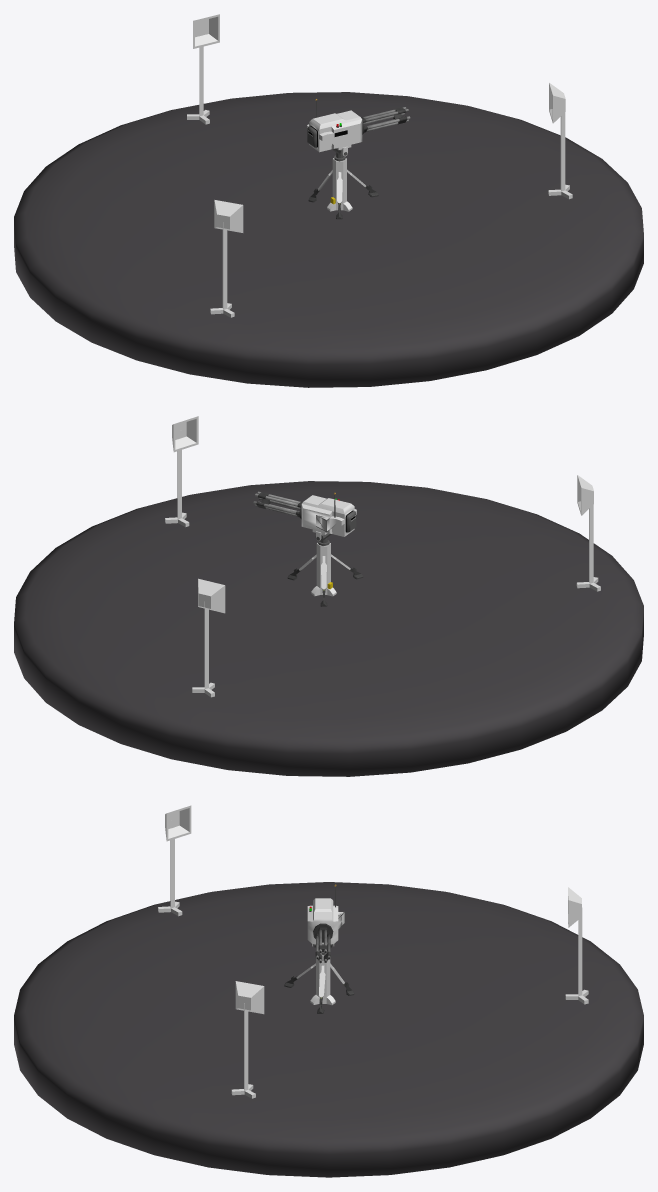
File: Turret.glb
3 views of the same model, one above another, from view 1: azimuth 30°, elevation 25°; view 2: azimuth 150°, elevation 25°; view 3: azimuth 270°, elevation 25° (orthographic).
Visible parts, largest first — view 1: Cylinder.003, Grey, Cylinder.006, Cylinder.004, Cylinder.005, Barrel, BaseCylinder; view 2: Cylinder.003, Grey, Cylinder.004, Cylinder.005, Cylinder.006, Barrel, BaseCylinder; view 3: Cylinder.003, Cylinder.005, Cylinder.006, Grey, Cylinder.004, Barrel, BaseCylinder.
Part boxes in pixels (left/top/right/bottom): Cylinder.003: left=14, top=92, right=643, bottom=387; Grey: left=307, top=99, right=362, bottom=156; Cylinder.006: left=210, top=200, right=243, bottom=317; Cylinder.004: left=187, top=14, right=219, bottom=124; Cylinder.005: left=548, top=82, right=572, bottom=199; Barrel: left=361, top=107, right=410, bottom=134; BaseCylinder: left=327, top=158, right=352, bottom=211; Cylinder.003: left=14, top=481, right=643, bottom=776; Grey: left=301, top=492, right=356, bottom=540; Cylinder.004: left=192, top=578, right=225, bottom=697; Cylinder.005: left=165, top=416, right=198, bottom=527; Cylinder.006: left=576, top=475, right=600, bottom=591; Barrel: left=253, top=491, right=302, bottom=519; BaseCylinder: left=311, top=543, right=336, bottom=596; Cylinder.003: left=14, top=882, right=643, bottom=1177; Cylinder.005: left=231, top=981, right=264, bottom=1098; Cylinder.006: left=158, top=805, right=191, bottom=916; Grey: left=307, top=884, right=344, bottom=946; Cylinder.004: left=565, top=887, right=588, bottom=1004; Barrel: left=313, top=923, right=333, bottom=963; BaseCylinder: left=310, top=955, right=335, bottom=1005.
Size of the model in its own units: 25.47 by 6.93 by 25.47.
9 materials, 1 textured.
